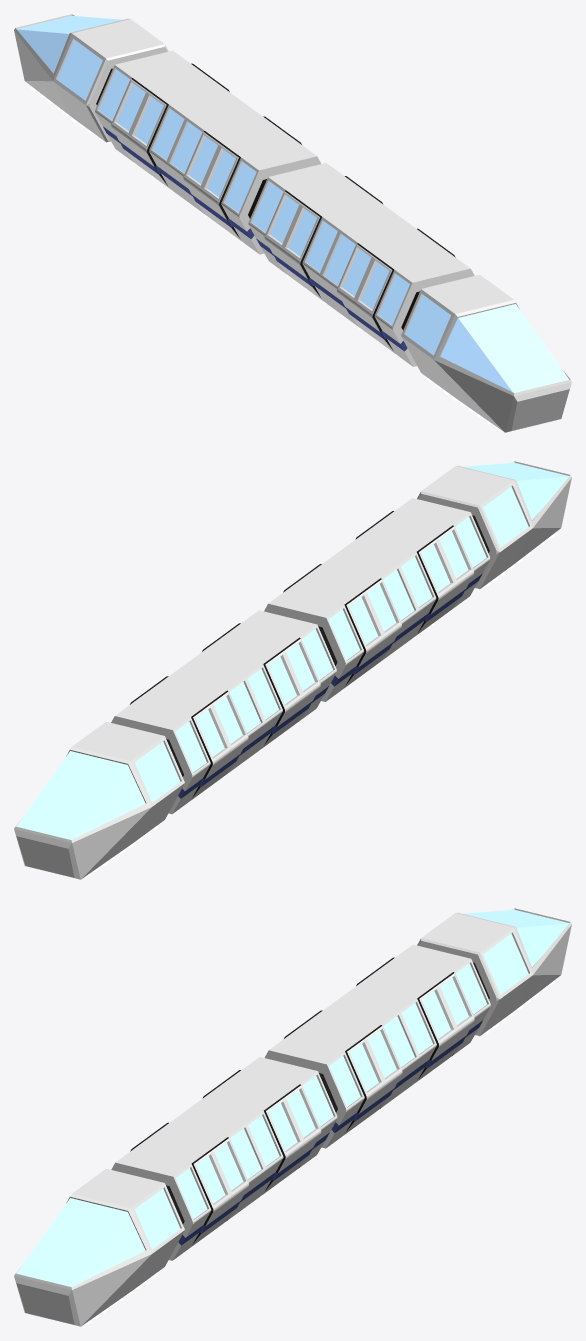
Rendered from Magnetic-Rail-Train.fbx.
3 renders of one model, top to bottom at view 1: azimuth 30°, elevation 25°; view 2: azimuth 150°, elevation 25°; view 3: azimuth 330°, elevation 25°, orthographic.
Visible parts, largest first — view 1: Magnetic-Train-Wagon.001, Magnetic-Train-Wagon, Magnetic-Train-Front.001, Magnetic-Train-Front; view 2: Magnetic-Train-Wagon.001, Magnetic-Train-Wagon, Magnetic-Train-Front, Magnetic-Train-Front.001; view 3: Magnetic-Train-Wagon.001, Magnetic-Train-Wagon, Magnetic-Train-Front.001, Magnetic-Train-Front.
Boxes of the visible parts, bbox=[...] form: Magnetic-Train-Wagon.001: bbox=[248, 163, 474, 366]; Magnetic-Train-Wagon: bbox=[95, 50, 321, 254]; Magnetic-Train-Front.001: bbox=[401, 274, 571, 432]; Magnetic-Train-Front: bbox=[14, 14, 168, 142]; Magnetic-Train-Wagon.001: bbox=[264, 498, 490, 701]; Magnetic-Train-Wagon: bbox=[111, 610, 336, 814]; Magnetic-Train-Front: bbox=[14, 721, 184, 879]; Magnetic-Train-Front.001: bbox=[417, 461, 571, 589]; Magnetic-Train-Wagon.001: bbox=[111, 1057, 337, 1260]; Magnetic-Train-Wagon: bbox=[264, 944, 490, 1148]; Magnetic-Train-Front.001: bbox=[14, 1168, 184, 1326]; Magnetic-Train-Front: bbox=[417, 908, 571, 1036].
Bounding box in the file's own units: 297 × 240 × 2521.
